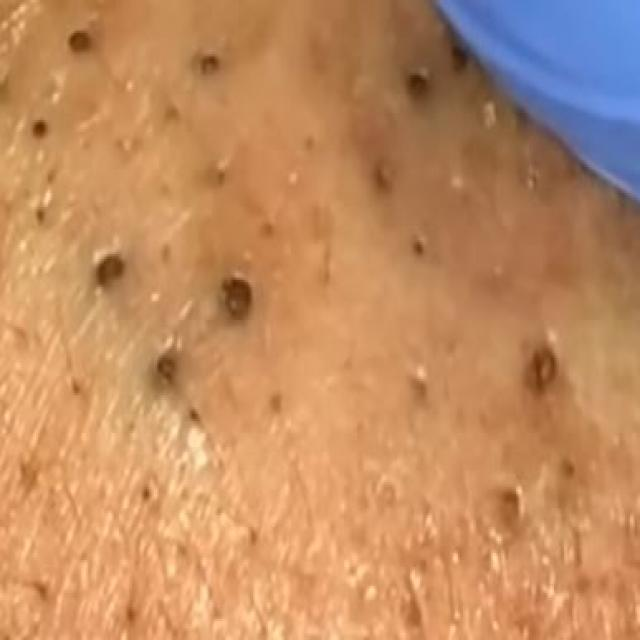dark spot: (211, 253, 264, 320), (518, 343, 570, 401), (80, 242, 134, 297), (393, 52, 436, 115), (62, 11, 106, 62), (145, 341, 183, 394), (194, 44, 222, 90)
